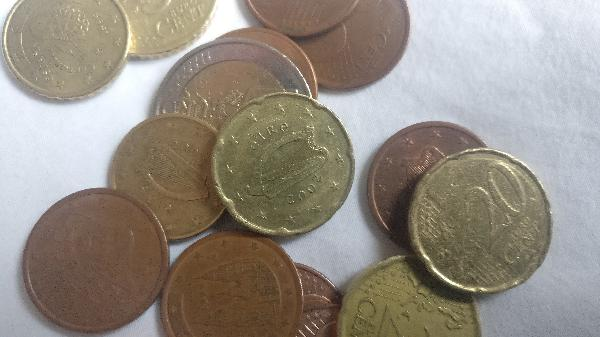Fifty Cent: (122, 1, 228, 59)
Five Cent: (26, 180, 169, 333), (368, 120, 486, 251), (162, 232, 303, 337), (109, 114, 220, 233), (281, 1, 415, 94)
Ten Cent: (4, 1, 134, 104)
Twenty Cent: (212, 92, 358, 234), (409, 148, 549, 294), (340, 256, 479, 337)
Two Euro: (154, 38, 323, 160)
